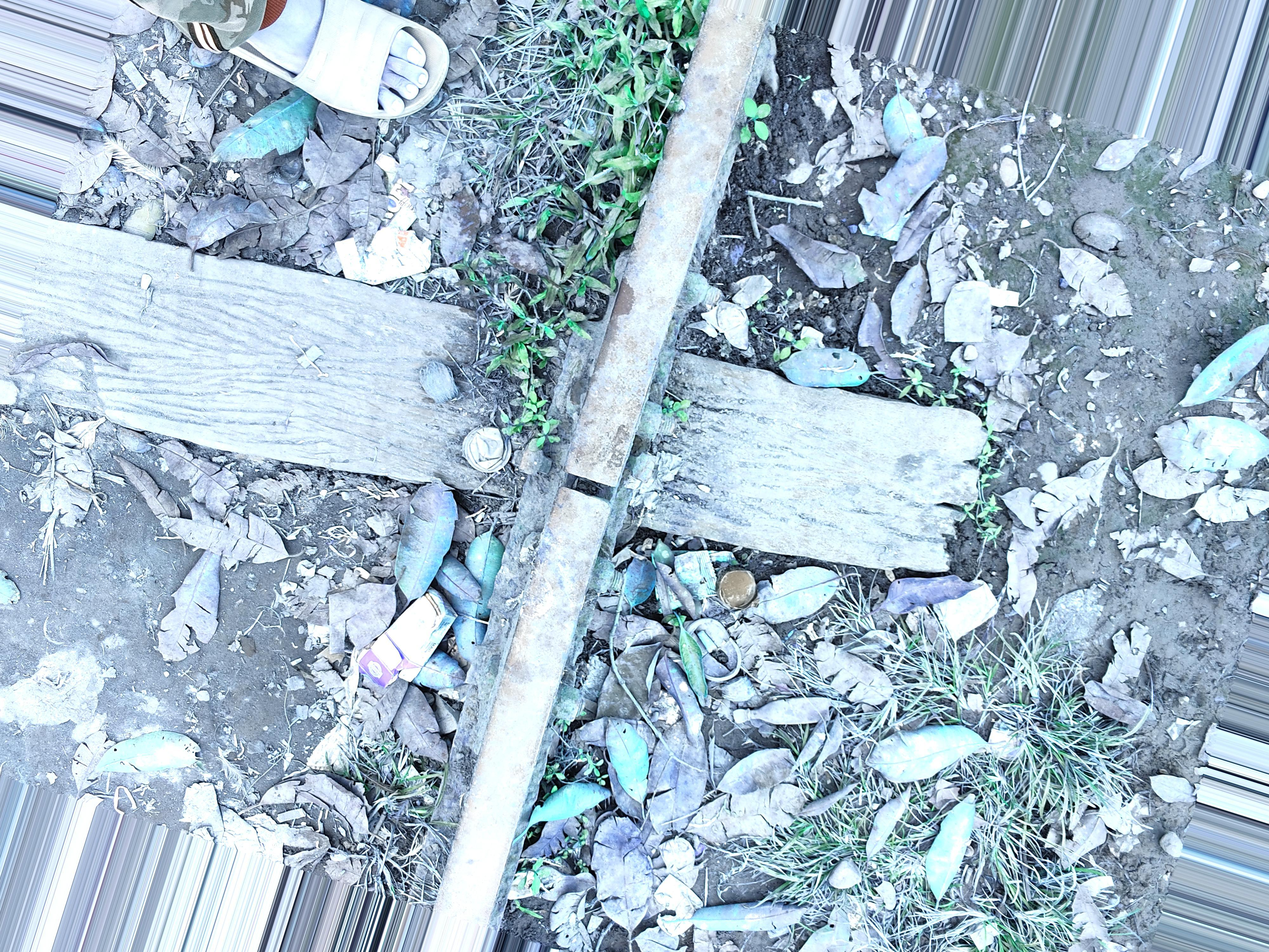railway-gap: (524, 424, 649, 553)
